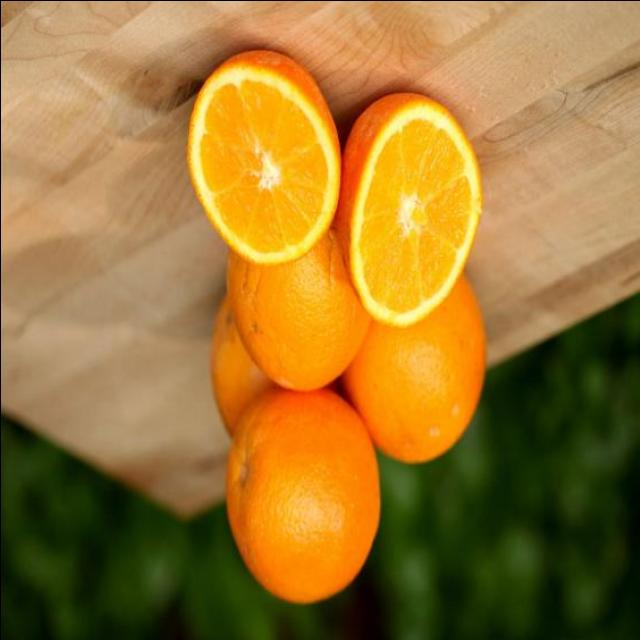orange: (219, 382, 395, 602), (326, 230, 486, 470), (192, 190, 382, 392)
